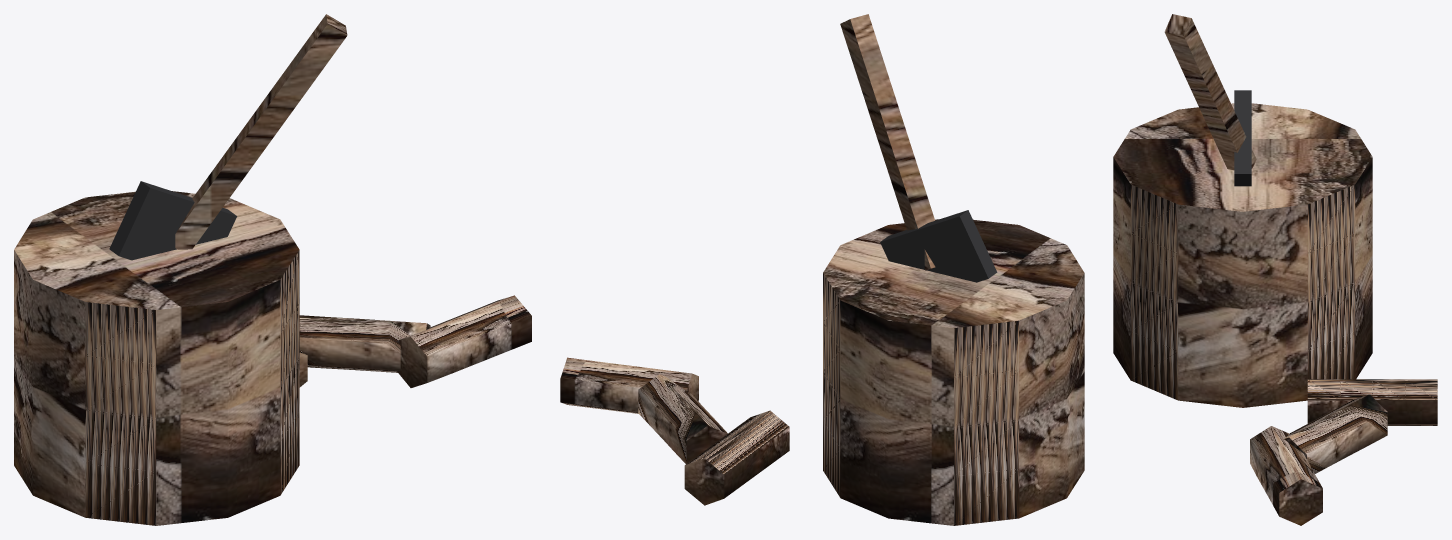
The model's file is tocon.glb.
3 renders of one model, left to right at view 1: azimuth 30°, elevation 25°; view 2: azimuth 150°, elevation 25°; view 3: azimuth 270°, elevation 25°, orthographic. The views are drawn at different scales.
Visible parts, largest first — view 1: pieza; view 2: pieza; view 3: pieza.
Boxes of the visible parts, x1=… form: pieza: x1=14, y1=14, x2=531, y2=525; pieza: x1=560, y1=14, x2=1084, y2=525; pieza: x1=1113, y1=14, x2=1437, y2=525.
Size of the model in its own units: 1.26 by 1.01 by 0.7499.
3 materials, 2 textured.
